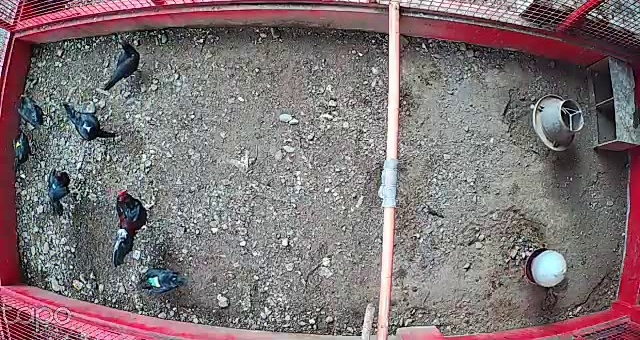Chicken: (60, 98, 119, 147), (101, 36, 145, 93), (46, 164, 81, 217), (135, 264, 190, 297), (14, 89, 51, 132), (10, 126, 38, 171)
Rooster: (112, 184, 156, 267)
Saddle_Color_Blue: (52, 183, 56, 189)
Saddle_Color_White: (82, 121, 92, 132)
Saddle_Color_Yellow: (15, 139, 22, 146)
Saddle_Color_YellowGreen: (149, 277, 163, 287)
